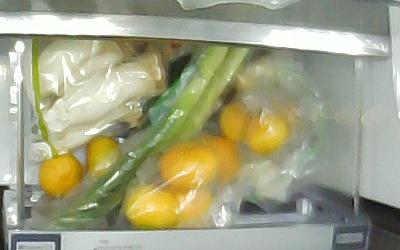tangerine: (37, 151, 82, 198), (84, 132, 120, 180)
tangerine_vinyl: (157, 140, 218, 191), (121, 183, 181, 229), (190, 133, 242, 184), (170, 185, 217, 227), (244, 112, 288, 153), (217, 98, 252, 142)
